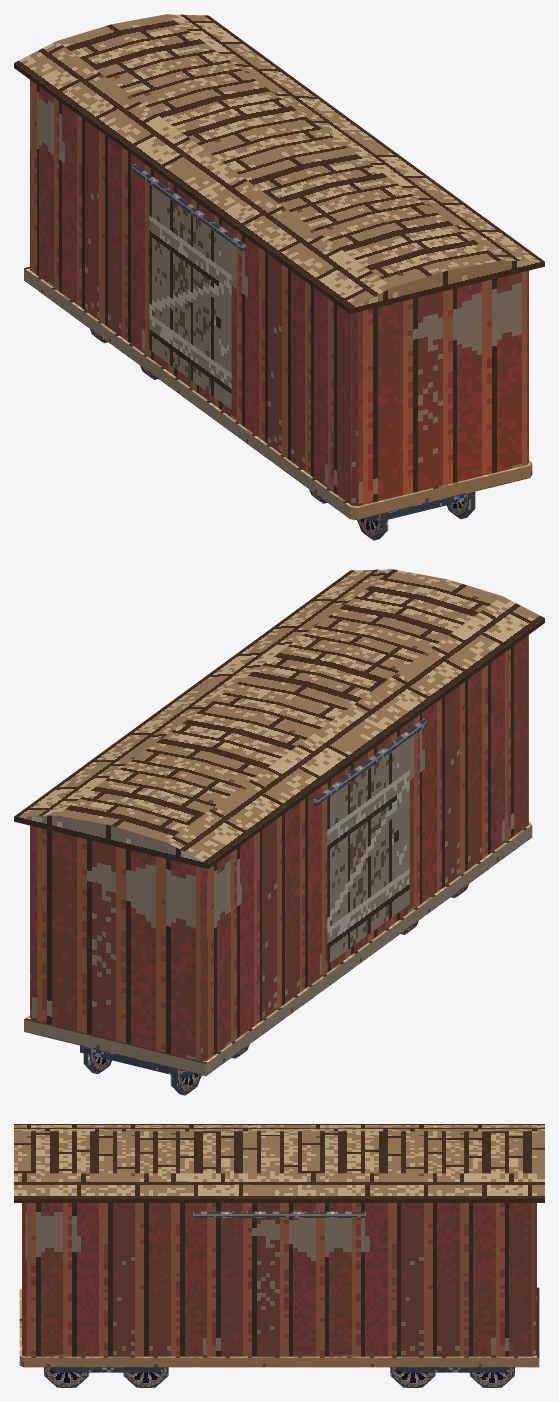
The model's file is wrail.car.glb.
3 renders of one model, top to bottom at view 1: azimuth 30°, elevation 25°; view 2: azimuth 150°, elevation 25°; view 3: azimuth 270°, elevation 25°, orthographic. The views are drawn at different scales.
Visible parts, largest first — view 1: kit_body, kit_roof, kit_card_doors, kit_frame, kit_wheels, kit_door_track, kit_trucks; view 2: kit_body, kit_roof, kit_card_doors, kit_frame, kit_wheels, kit_door_track, kit_trucks; view 3: kit_body, kit_roof, kit_frame, kit_wheels, kit_trucks, kit_door_track.
Part boxes in pixels (x1,y1,x2,y2): kit_body: (30, 80, 528, 506); kit_roof: (14, 14, 544, 313); kit_card_doors: (149, 184, 231, 409); kit_frame: (24, 266, 532, 519); kit_wheels: (90, 329, 475, 540); kit_door_track: (132, 164, 245, 251); kit_trucks: (365, 494, 465, 521); kit_body: (30, 635, 528, 1061); kit_roof: (14, 569, 544, 868); kit_card_doors: (327, 739, 409, 964); kit_frame: (24, 821, 532, 1076); kit_wheels: (83, 884, 468, 1095); kit_door_track: (313, 719, 426, 806); kit_trucks: (80, 1045, 193, 1078); kit_body: (22, 1203, 536, 1356); kit_roof: (14, 1124, 544, 1202); kit_frame: (19, 1287, 539, 1367); kit_wheels: (44, 1367, 514, 1387); kit_trucks: (49, 1367, 510, 1372); kit_door_track: (193, 1211, 365, 1217).
Bounding box in the file's own units: 2.46 × 3.37 × 7.36.
7 materials, 7 textured.
